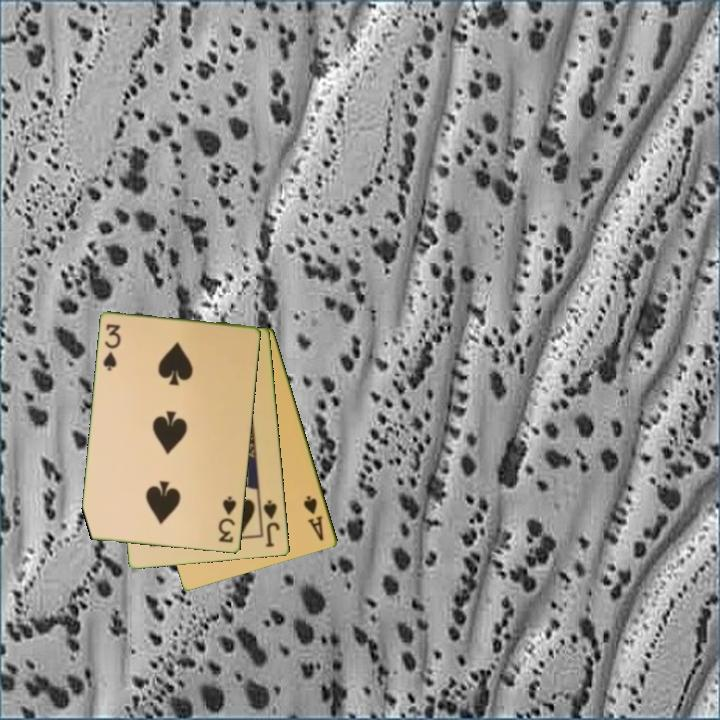3s: (215, 493, 239, 546), (100, 321, 124, 374)
As: (300, 492, 327, 544)
Js: (260, 496, 283, 550)
